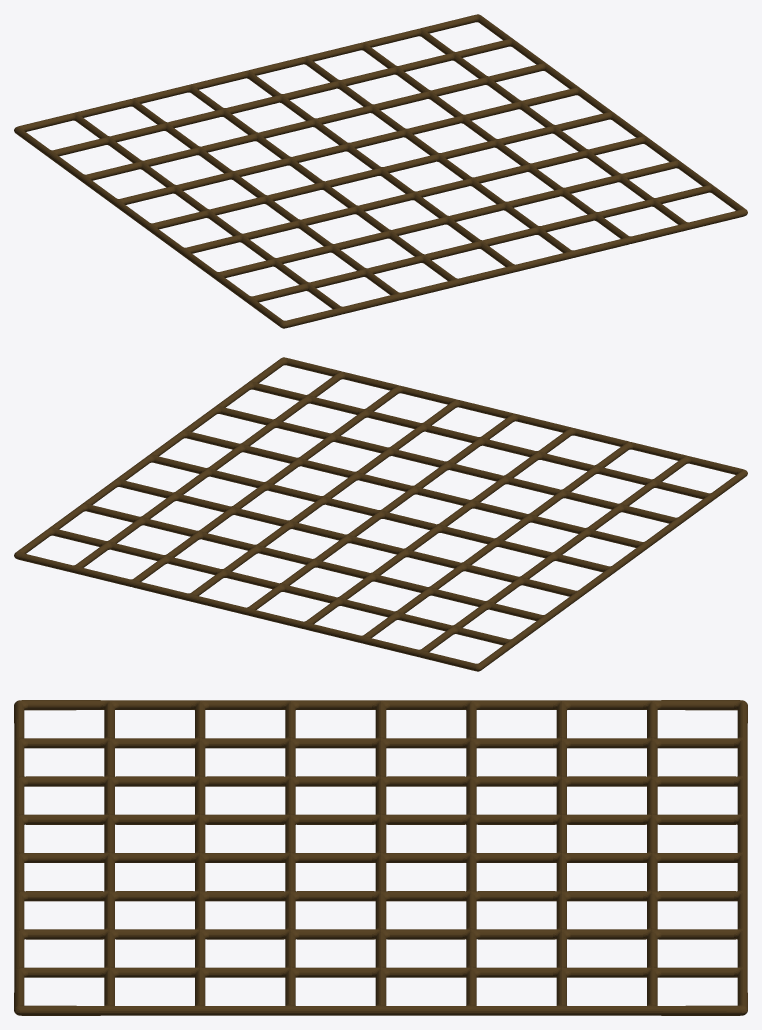
The model's file is malla.fbx.
3 renders of one model, top to bottom at view 1: azimuth 30°, elevation 25°; view 2: azimuth 150°, elevation 25°; view 3: azimuth 270°, elevation 25°, orthographic. The views are drawn at different scales.
Parts seen in each view (by area): view 1: Plane; view 2: Plane; view 3: Plane.
Part boxes in pixels (x1,y1,x2,y2): Plane: [14, 14, 747, 328]; Plane: [14, 357, 747, 671]; Plane: [14, 700, 747, 1015].
Bounding box in the file's own units: 2.03 × 0.0304 × 2.03.
